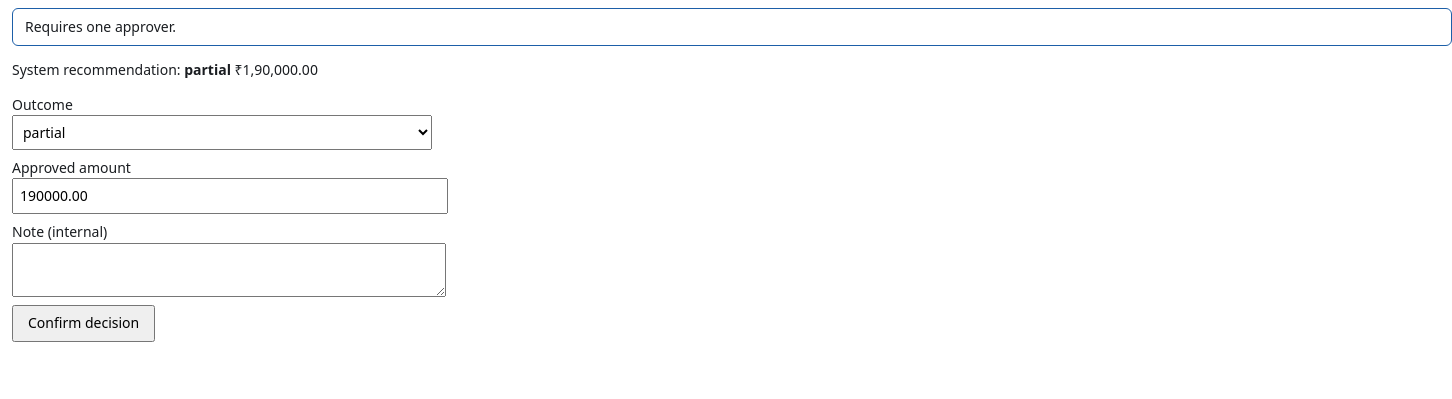
Test case: decision form › tells the user when the case changed underneath them (412)
Click the button "Confirm decision" at (84, 324), box x1=12 y1=305 x2=155 y2=342
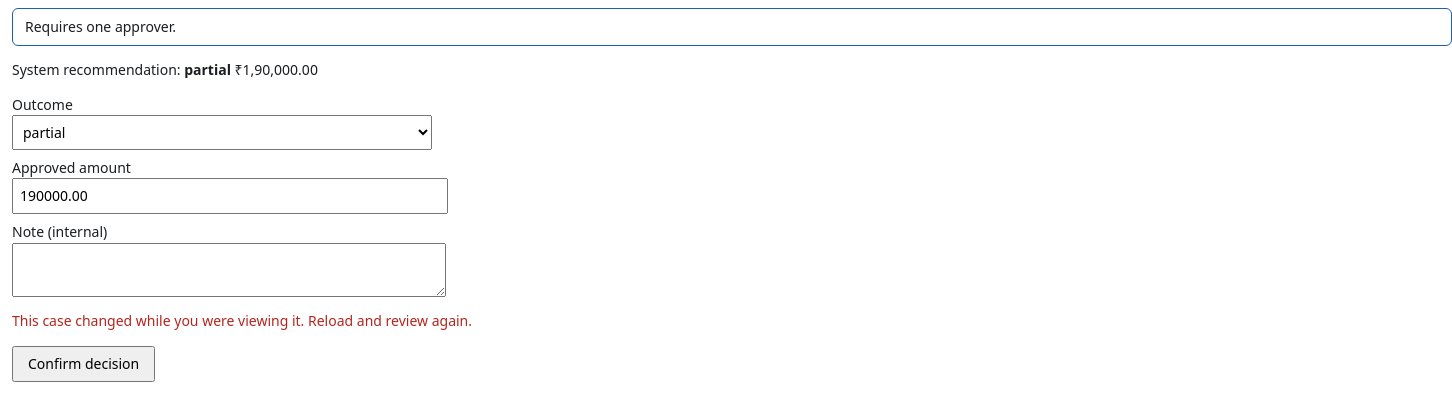
expect the message "This case changed while you were viewing it. Reload and review again." is shown: met, box x1=12 y1=311 x2=472 y2=330
